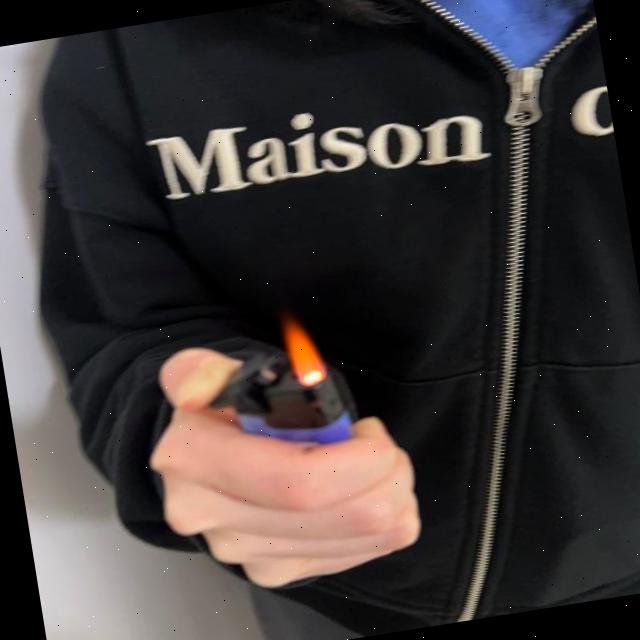fire: (276, 307, 334, 392)
